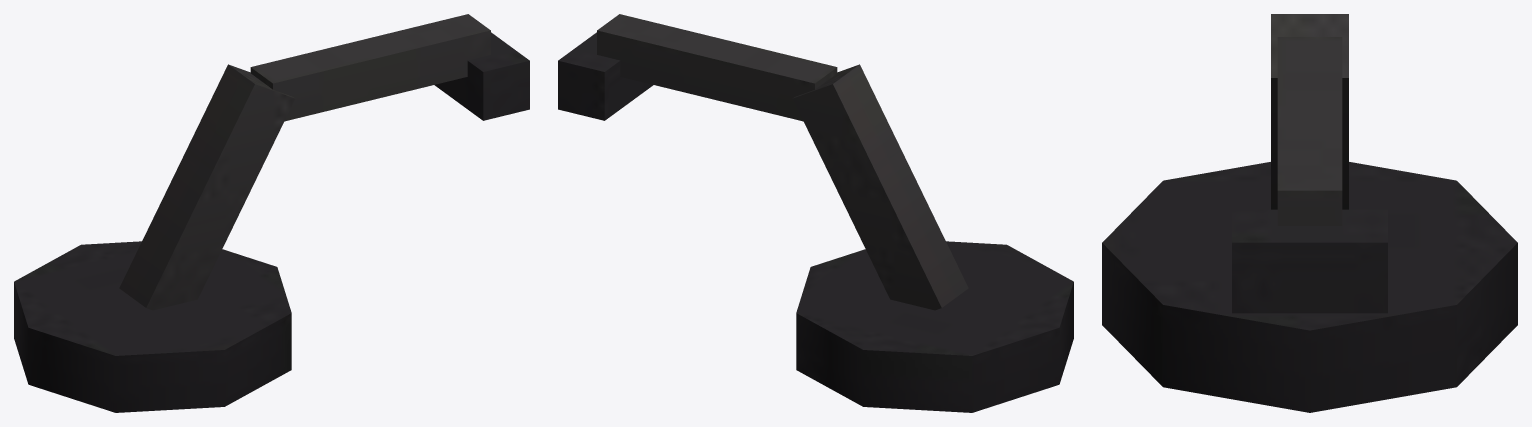
File: burner-inserter.glb
3 renders of one model, left to right at view 1: azimuth 30°, elevation 25°; view 2: azimuth 150°, elevation 25°; view 3: azimuth 270°, elevation 25°, orthographic. The views are drawn at different scales.
Parts seen in each view (by area): view 1: burner-inserter; view 2: burner-inserter; view 3: burner-inserter.
Part boxes in pixels (x1,y1,x2,y2): burner-inserter: [14, 14, 529, 412]; burner-inserter: [558, 14, 1073, 412]; burner-inserter: [1102, 14, 1517, 412].
Bounding box in the file's own units: 0.305 × 0.1587 × 0.16.
Materials: 1 (1 with a texture image).
